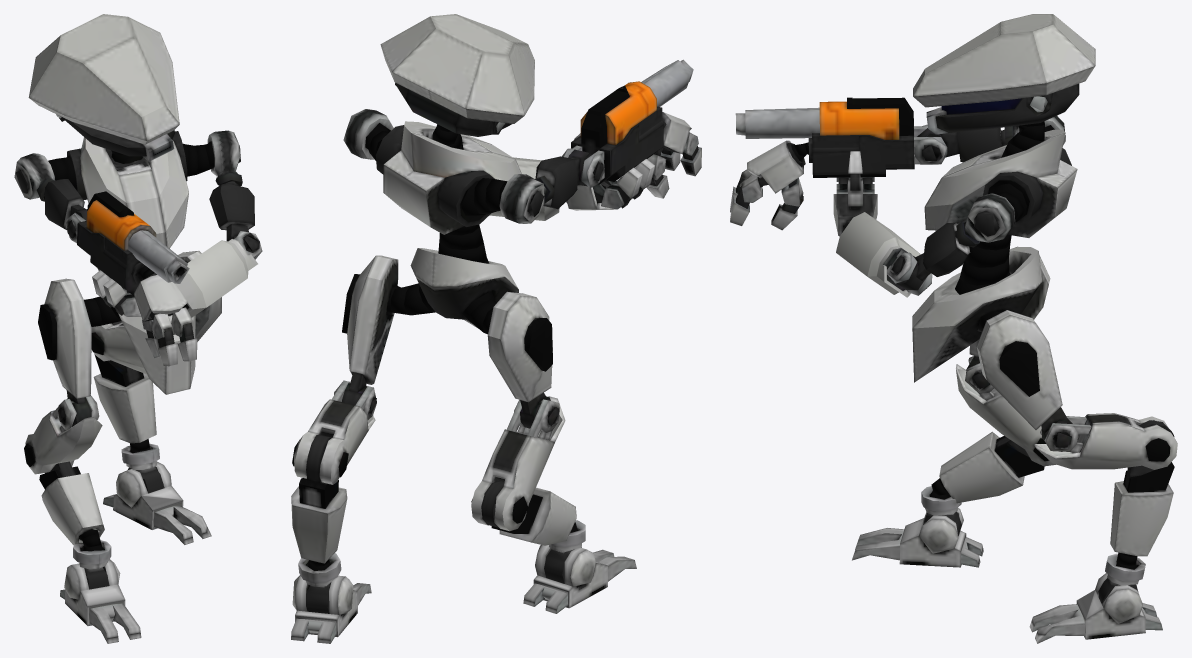
File: npc-militor.glb
3 views of the same model, side by side, from view 1: azimuth 30°, elevation 25°; view 2: azimuth 150°, elevation 25°; view 3: azimuth 270°, elevation 25° (orthographic). The views are drawn at different scales.
Parts seen in each view (by area): view 1: Object_7_baked; view 2: Object_7_baked; view 3: Object_7_baked.
Part boxes in pixels (x1,y1,x2,y2): Object_7_baked: (14, 14, 262, 643); Object_7_baked: (291, 14, 701, 643); Object_7_baked: (730, 14, 1177, 643).
Bounding box in the file's own units: 0.5192 × 1.32 × 0.9389.
Materials: 1 (1 with a texture image).
